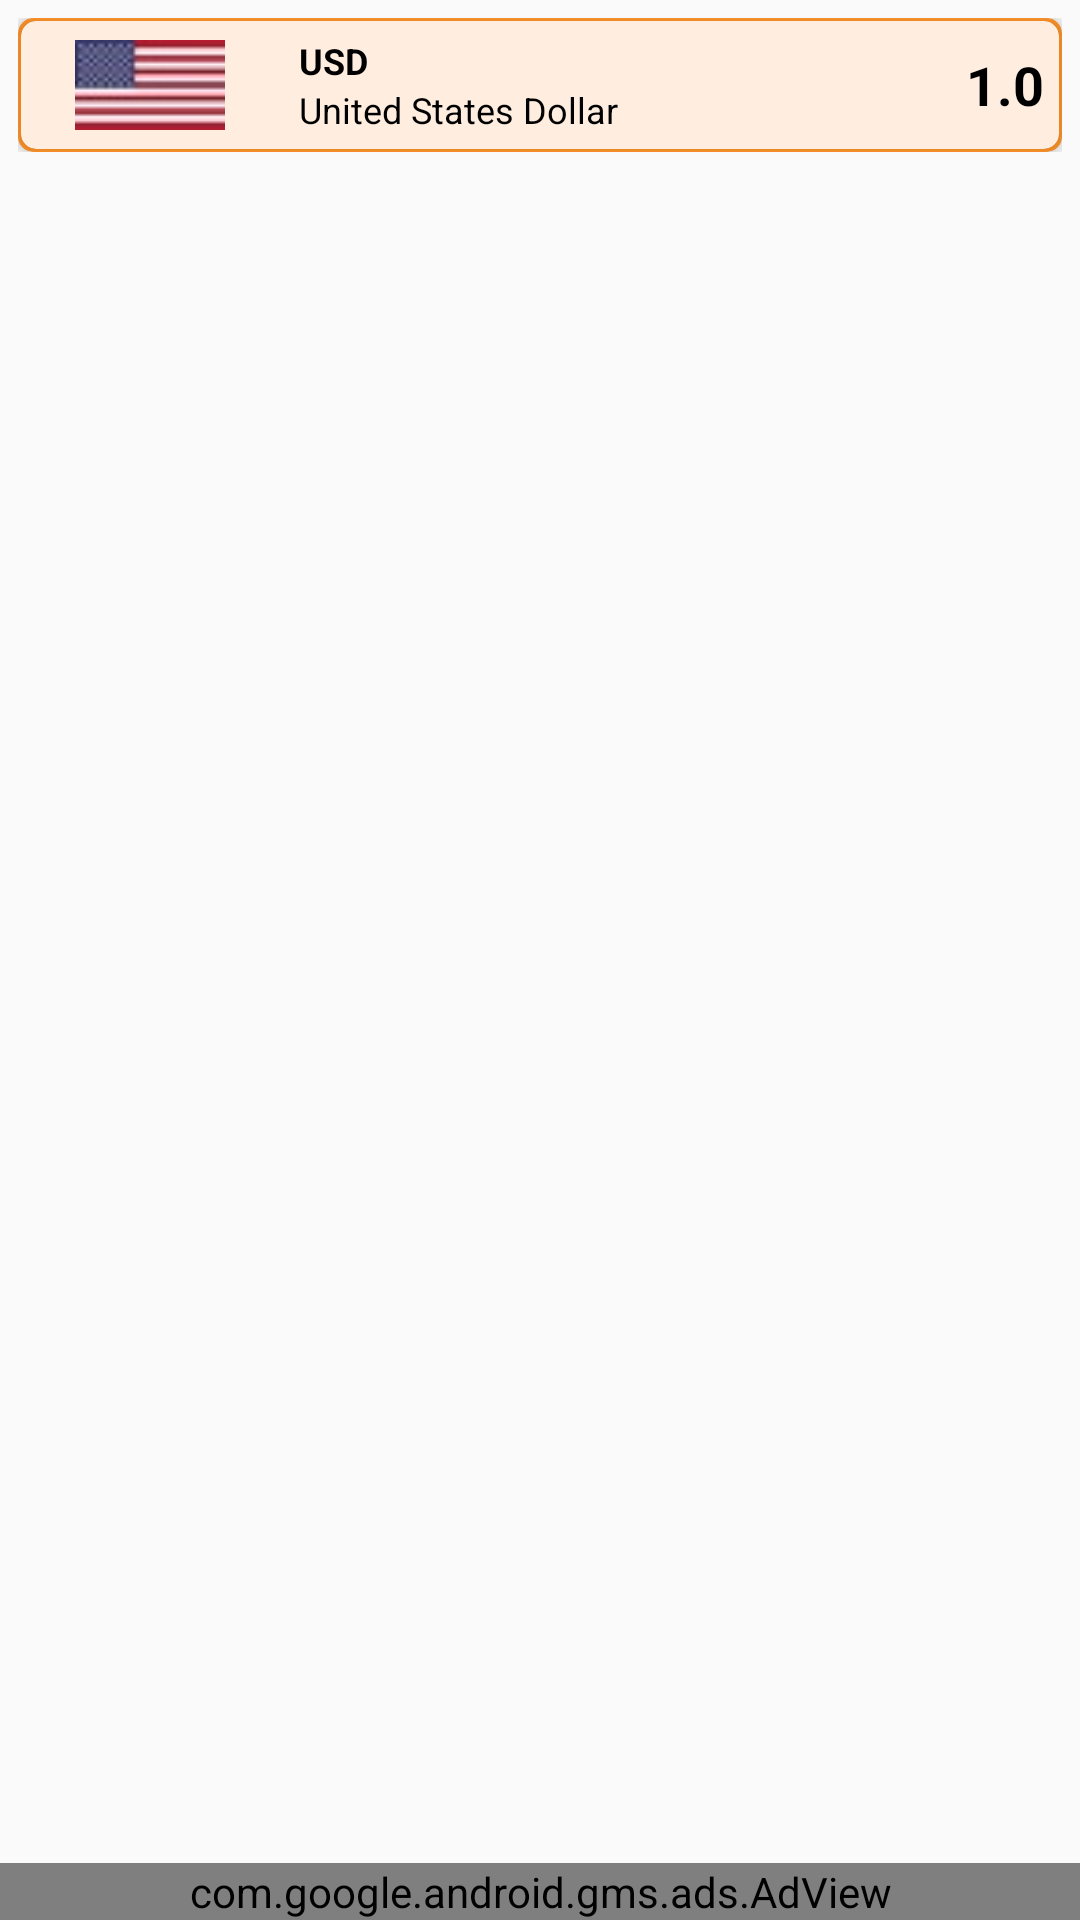

Where to tap for icons on this 1080px×1920px app screen, as (x=x, y=y):
myflag: (x=150, y=85)
